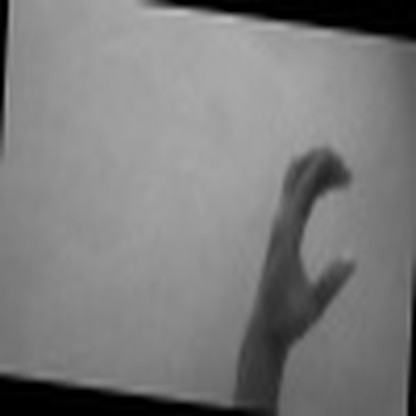c: (262, 139, 360, 342)
